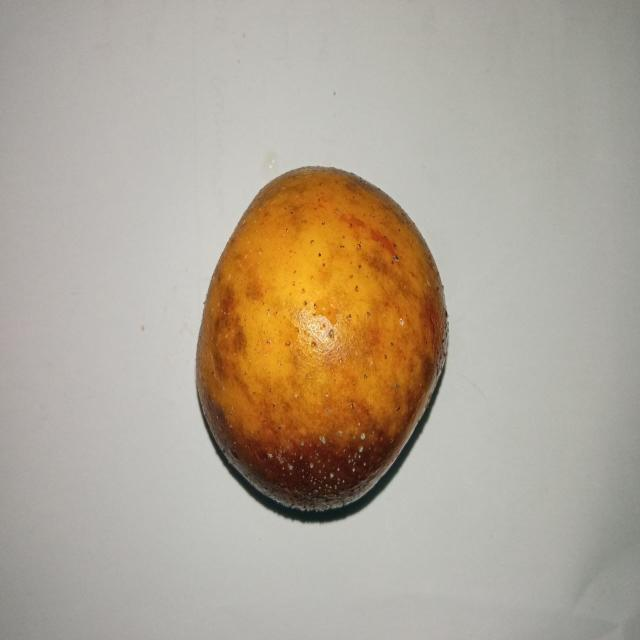rotten_apple: (190, 160, 450, 513)
